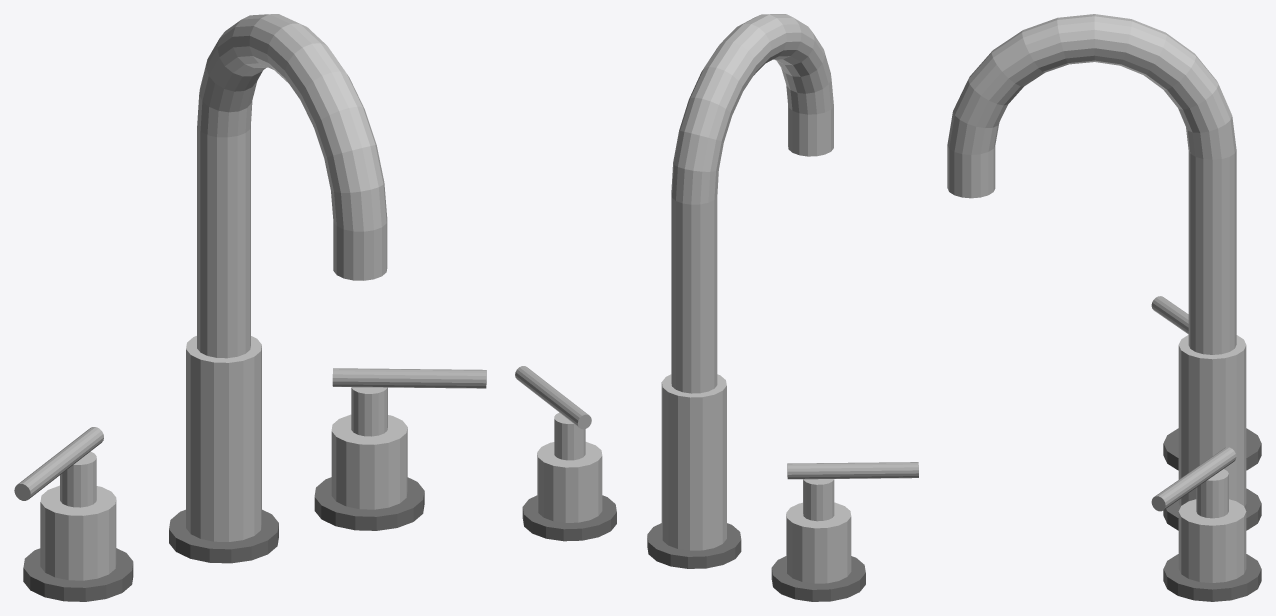
File: Prop_Faucet_04.fbx
3 views of the same model, side by side, from view 1: azimuth 30°, elevation 25°; view 2: azimuth 150°, elevation 25°; view 3: azimuth 270°, elevation 25° (orthographic). The views are drawn at different scales.
Visible parts, largest first — view 1: Prop_Faucet_04; view 2: Prop_Faucet_04; view 3: Prop_Faucet_04.
Part boxes in pixels (left/top/right/bottom): Prop_Faucet_04: left=14, top=14, right=486, bottom=601; Prop_Faucet_04: left=515, top=14, right=918, bottom=601; Prop_Faucet_04: left=947, top=14, right=1261, bottom=601.
Size of the model in its own units: 31.65 by 36.38 by 20.63.
